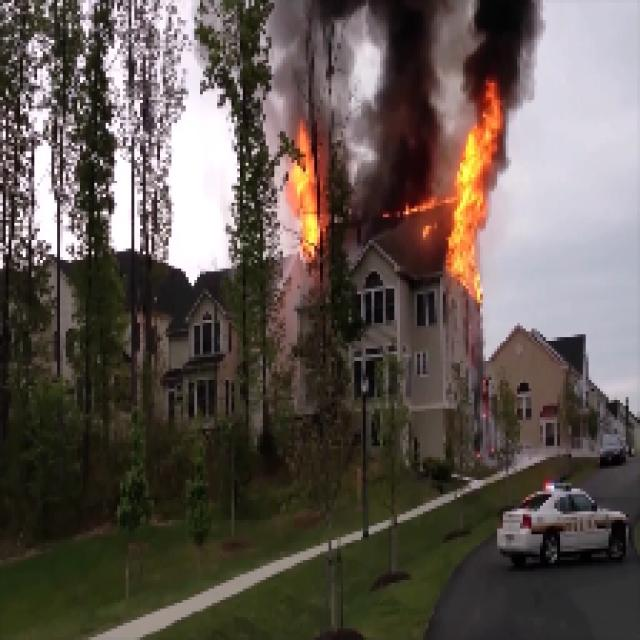fire: (458, 110, 493, 274)
smoke: (368, 2, 431, 209), (476, 6, 537, 88)
